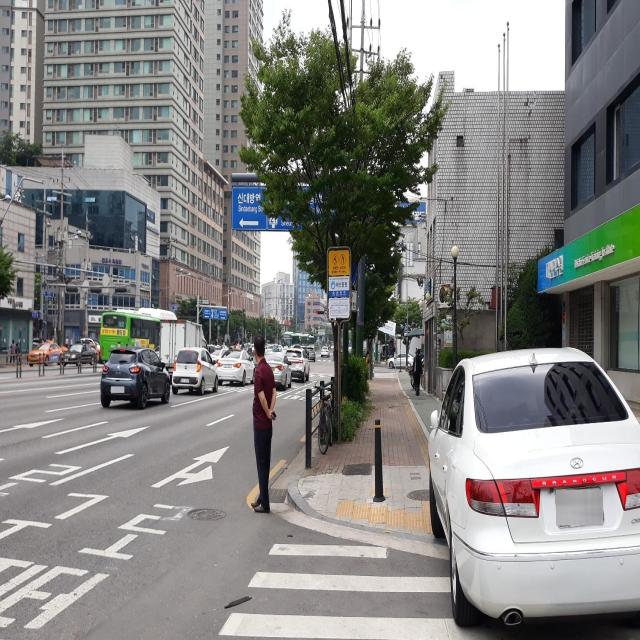횡단보도: (218, 540, 504, 640)
